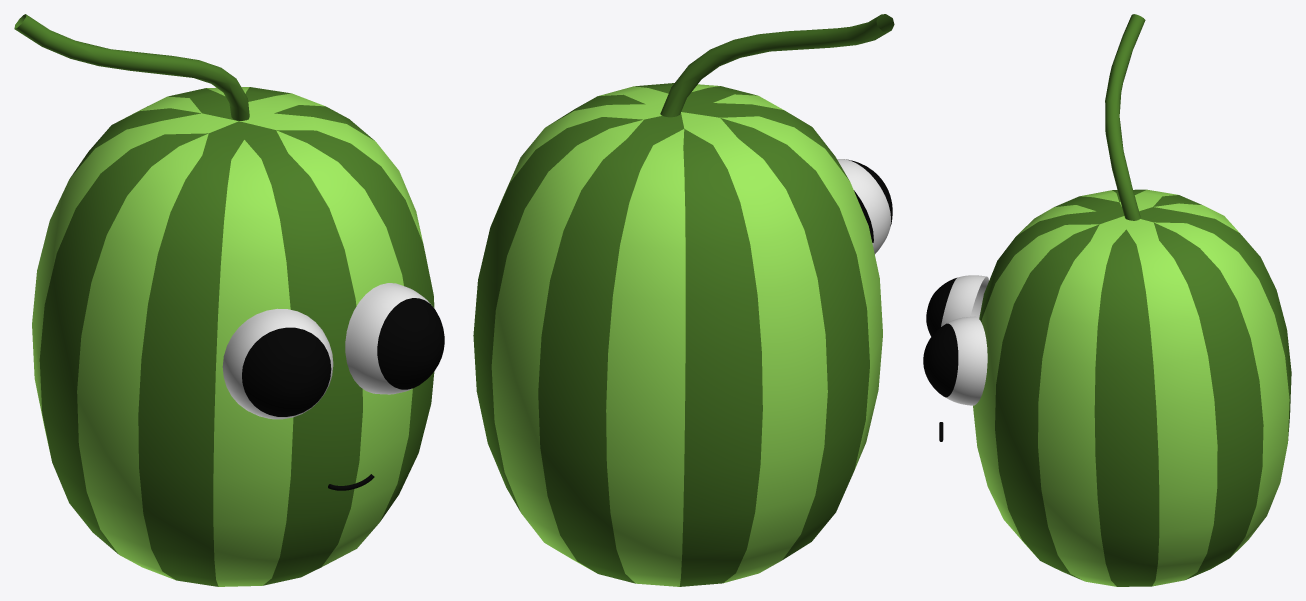
File: sebze8.fbx
3 views of the same model, side by side, from view 1: azimuth 30°, elevation 25°; view 2: azimuth 150°, elevation 25°; view 3: azimuth 270°, elevation 25° (orthographic). The views are drawn at different scales.
Parts seen in each view (by area): view 1: BezierCurve.002; view 2: BezierCurve.002; view 3: BezierCurve.002.
Boxes of the visible parts, x1,y1,x2,y2 form: BezierCurve.002: (14, 14, 444, 586); BezierCurve.002: (473, 14, 894, 586); BezierCurve.002: (923, 14, 1291, 586).
Bounding box in the file's own units: 1395 × 2014 × 1436.
